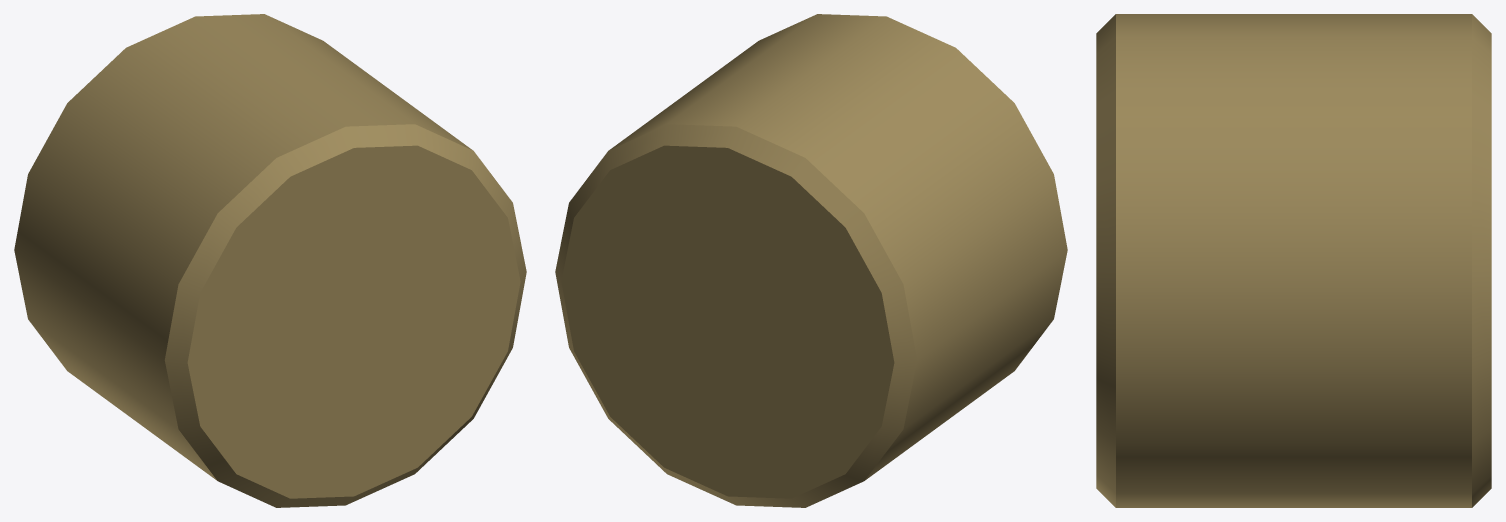
The model's file is SM_Prop_farm_bale_0.glb.
3 views of the same model, side by side, from view 1: azimuth 30°, elevation 25°; view 2: azimuth 150°, elevation 25°; view 3: azimuth 270°, elevation 25° (orthographic). The views are drawn at different scales.
Parts seen in each view (by area): view 1: SM_Prop_farm_bale_0; view 2: SM_Prop_farm_bale_0; view 3: SM_Prop_farm_bale_0.
Boxes of the visible parts, x1,y1,x2,y2 form: SM_Prop_farm_bale_0: [14, 14, 526, 507]; SM_Prop_farm_bale_0: [555, 14, 1067, 507]; SM_Prop_farm_bale_0: [1096, 14, 1491, 507].
Bounding box in the file's own units: 1.5 × 1.5 × 1.2.
